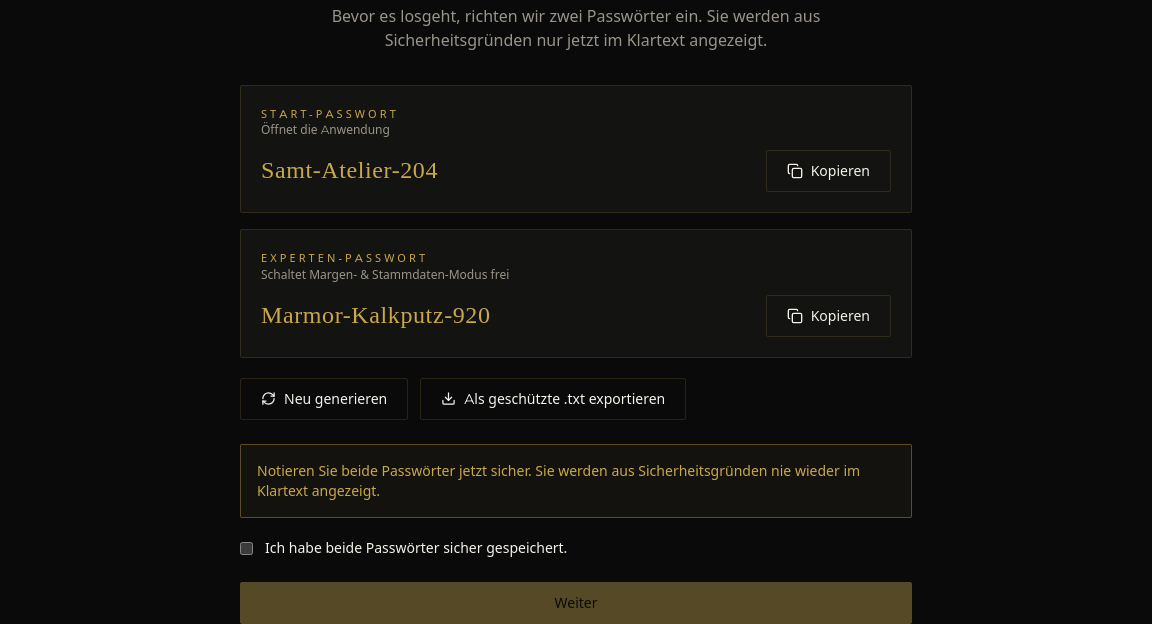
Test: Integration — App-Flow (jsdom) › Demo laden und Kosten prüfen: Summe > 0, Reserve sichtbar, Brutto > Netto
This screenshot has width=1152, height=624.
What coordinates should you click on to do the following:
click the checkbox with test id "confirm-pw"
I would click on:
 (246, 548)
Its box is [240,542,253,554].
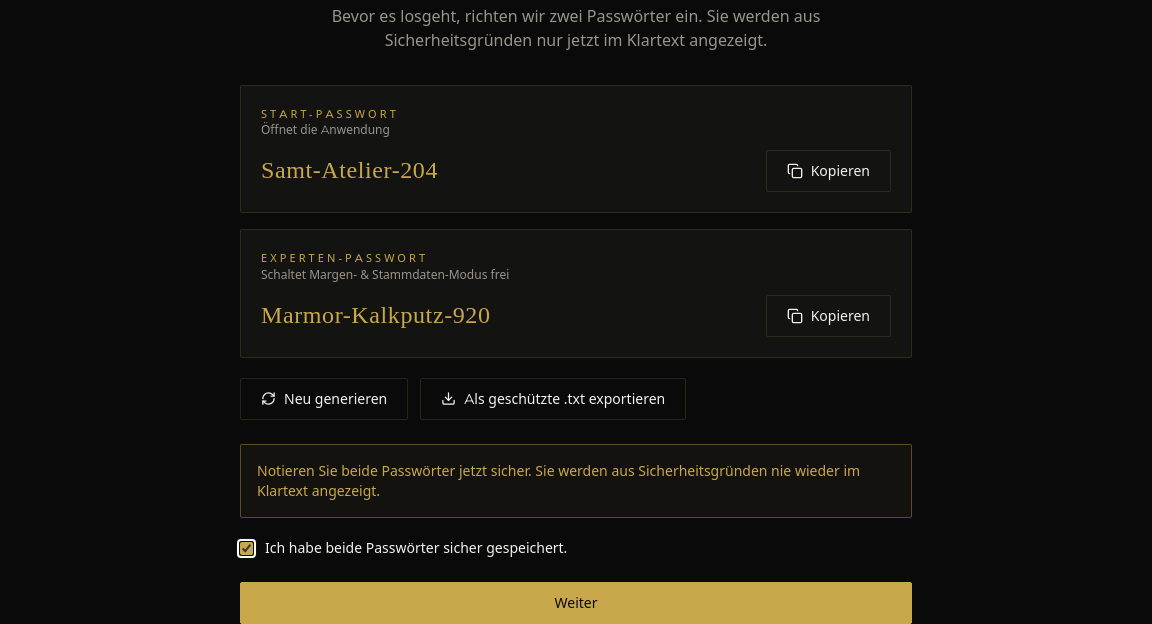
What coordinates should you click on to do the following:
click the button with test id "setup-continue"
I would click on:
 (576, 602)
Its box is [240,582,912,623].
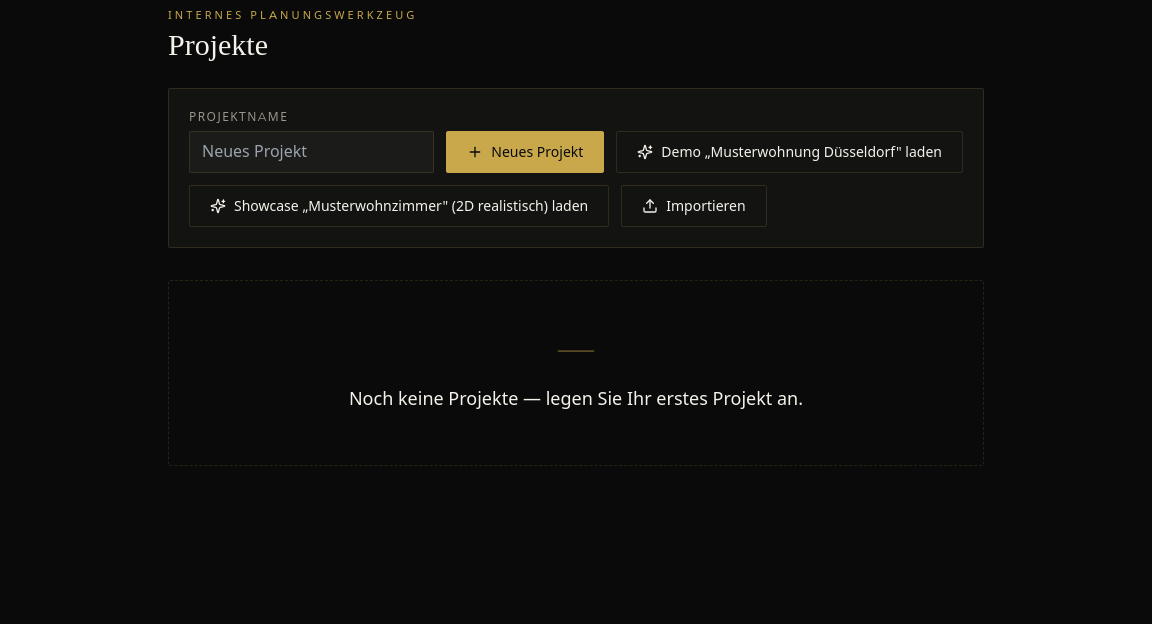
What coordinates should you click on to do the following:
click the button with test id "seed-demo"
I would click on:
 (790, 152)
Its box is [616,130,963,172].
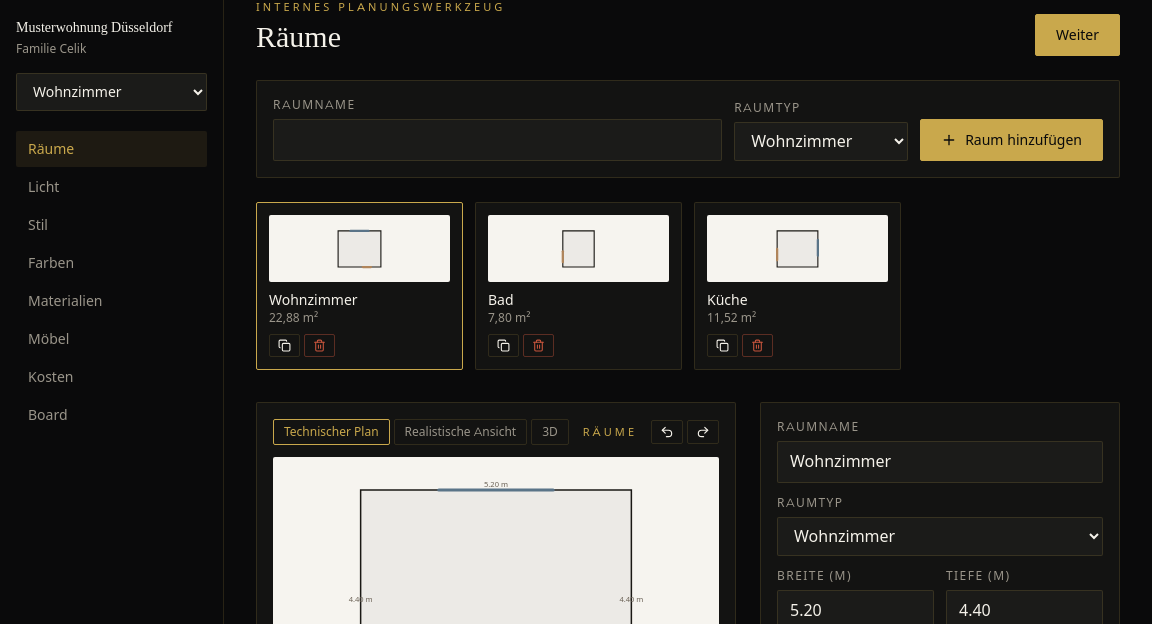
# In die Kosten navigieren
What coordinates should you click on to do the following:
click the button with test id "nav-costs"
I would click on:
 (112, 376)
Its box is [16,358,207,394].
(page scrolled)
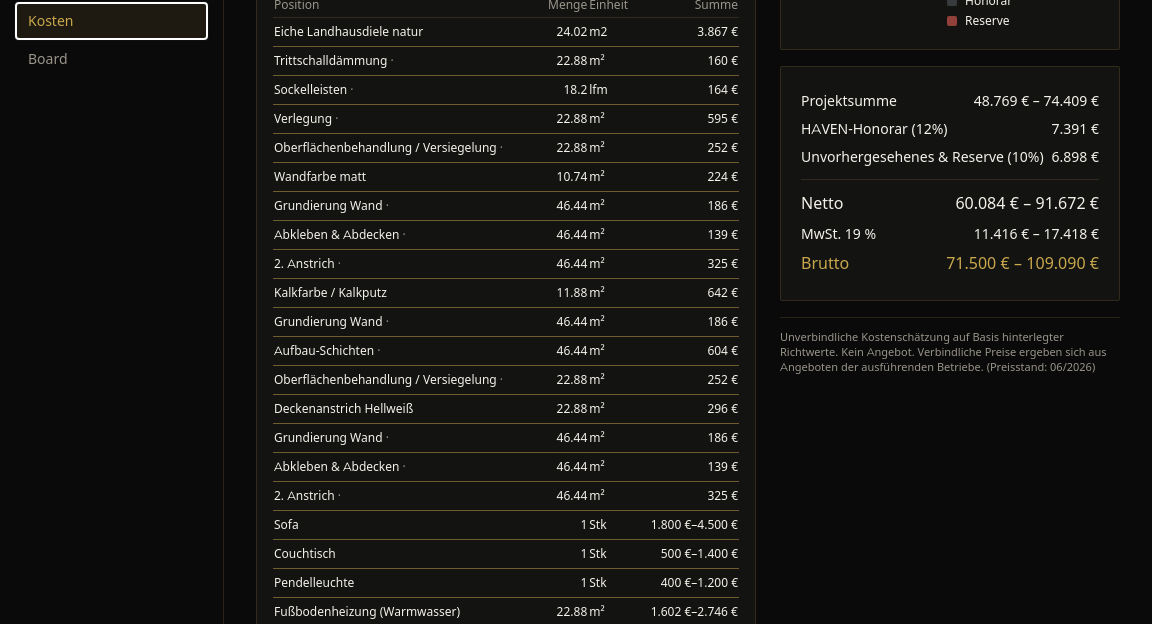
Expected: the element with test id "reserve-line" is shown, [801,143,1099,171]
Expected: the element with test id "net-total" is shown, [801,194,1099,213]
Expected: the element with test id "gross-total" is shown, [801,254,1099,273]
